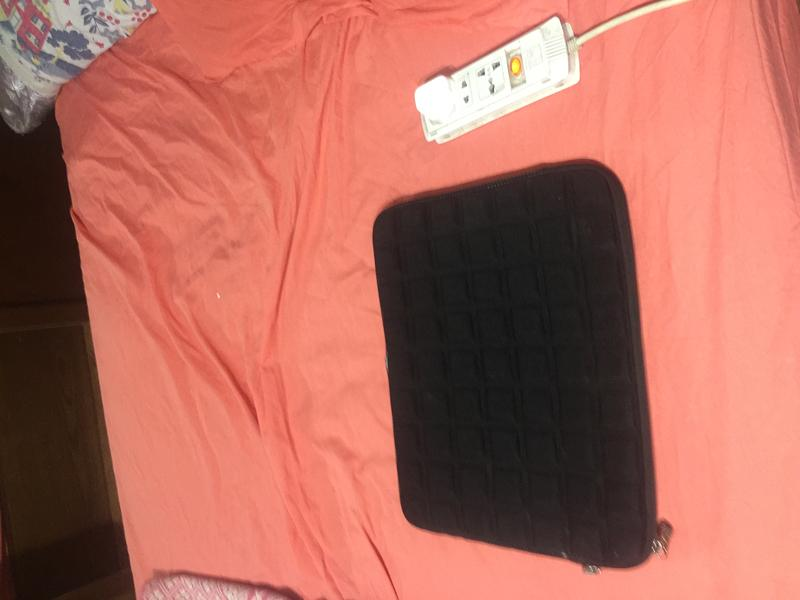cover: (369, 161, 683, 580)
